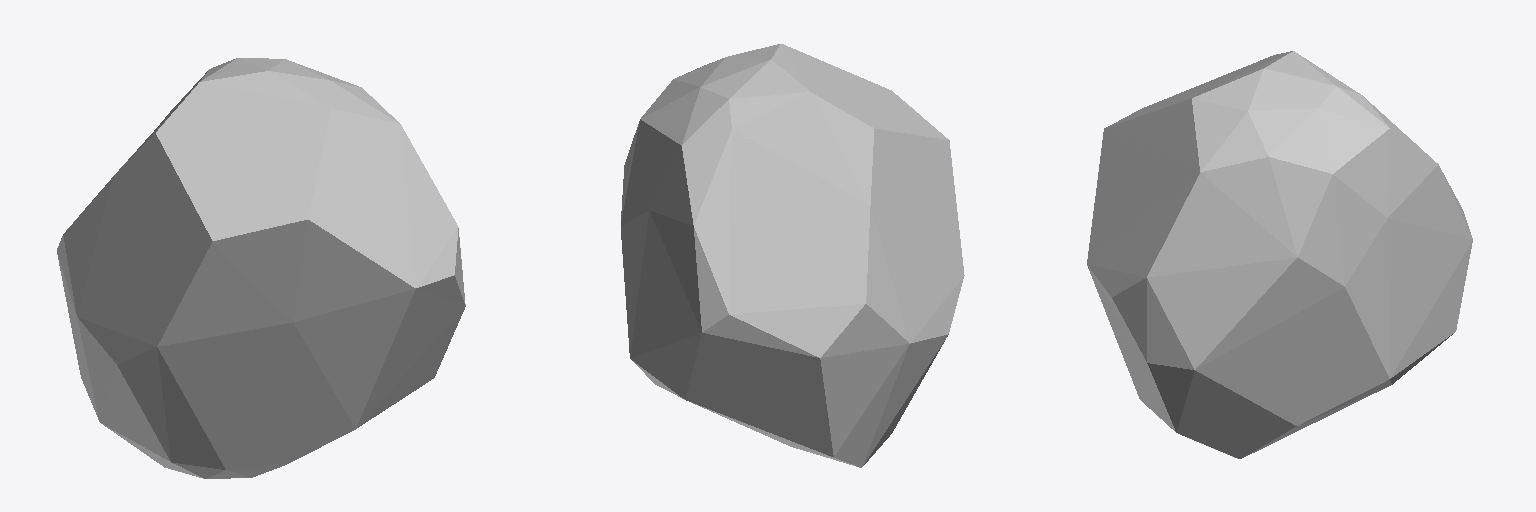
File: rock1.obj
3 views of the same model, side by side, from view 1: azimuth 30°, elevation 25°; view 2: azimuth 150°, elevation 25°; view 3: azimuth 270°, elevation 25° (orthographic).
Visible parts, largest first — view 1: Stone_1_Sphere.001; view 2: Stone_1_Sphere.001; view 3: Stone_1_Sphere.001.
Boxes of the visible parts, <box> form: Stone_1_Sphere.001: <box>57,58,465,478</box>; Stone_1_Sphere.001: <box>621,44,964,467</box>; Stone_1_Sphere.001: <box>1087,51,1472,458</box>.
Size of the model in its own units: 3.2 by 3.62 by 3.34.